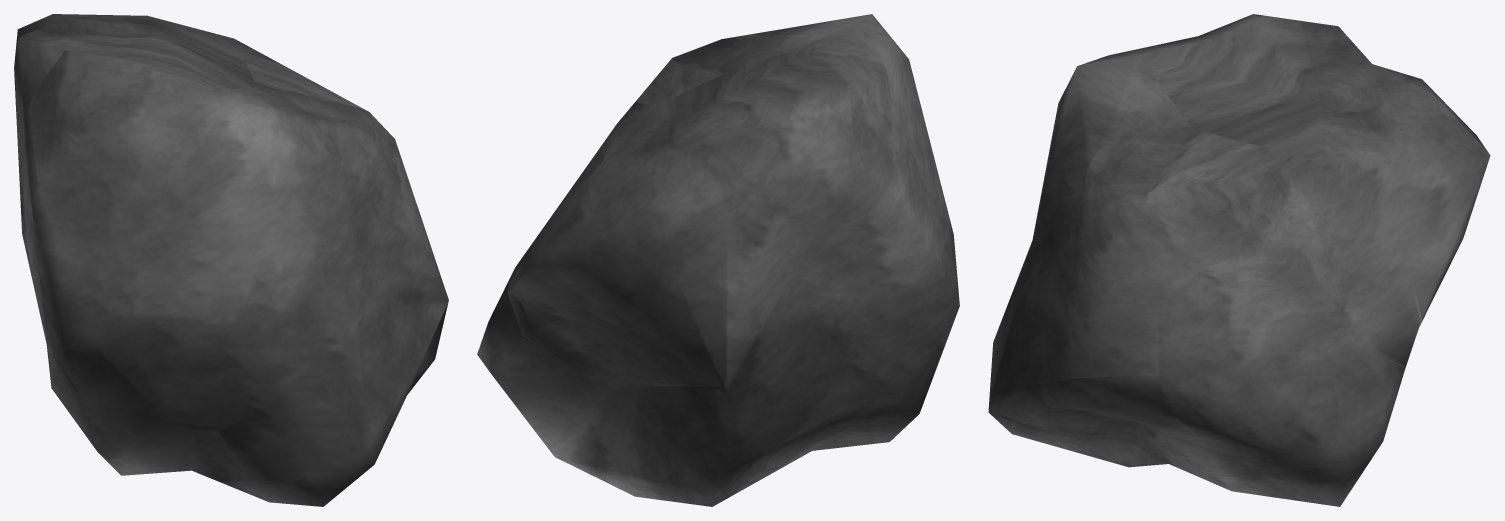
File: stonepieces.FBX
3 renders of one model, left to right at view 1: azimuth 30°, elevation 25°; view 2: azimuth 150°, elevation 25°; view 3: azimuth 270°, elevation 25°, orthographic. The views are drawn at different scales.
Parts seen in each view (by area): view 1: Sphere002_Part_2, Sphere002_Part_3, Sphere002_Part_9, Sphere002_Part_7, Sphere002_Part_4, Sphere002_Part_1, Sphere002_Part_8, Sphere002_Part_5; view 2: Sphere002_Part_1, Sphere002_Part_7, Sphere002_Part_4, Sphere002_Part_6, Sphere002_Part_3, Sphere002_Part_2, Sphere002_Part_5; view 3: Sphere002_Part_4, Sphere002_Part_6, Sphere002_Part_5, Sphere002_Part_1, Sphere002_Part_9, Sphere002_Part_8, Sphere002_Part_3, Sphere002_Part_2.
Boxes of the visible parts, x1,y1,x2,y2 form: Sphere002_Part_2: (29,88,386,434); Sphere002_Part_3: (37,51,390,242); Sphere002_Part_9: (198,199,448,482); Sphere002_Part_7: (21,109,219,481); Sphere002_Part_4: (36,31,414,215); Sphere002_Part_1: (14,14,186,217); Sphere002_Part_8: (220,303,448,506); Sphere002_Part_5: (149,26,277,62); Sphere002_Part_1: (510,111,860,392); Sphere002_Part_7: (597,165,959,506); Sphere002_Part_4: (635,34,853,144); Sphere002_Part_6: (477,283,603,478); Sphere002_Part_3: (750,14,921,143); Sphere002_Part_2: (853,107,957,276); Sphere002_Part_5: (507,102,706,343); Sphere002_Part_4: (1076,15,1318,302); Sphere002_Part_6: (1157,276,1405,506); Sphere002_Part_5: (1206,95,1422,367); Sphere002_Part_1: (1300,20,1490,321); Sphere002_Part_9: (989,256,1158,394); Sphere002_Part_8: (988,375,1258,495); Sphere002_Part_3: (1038,14,1262,257); Sphere002_Part_2: (1007,196,1069,305).
Size of the model in its own units: 55.81 by 57.83 by 66.18.
1 material, 1 textured.
